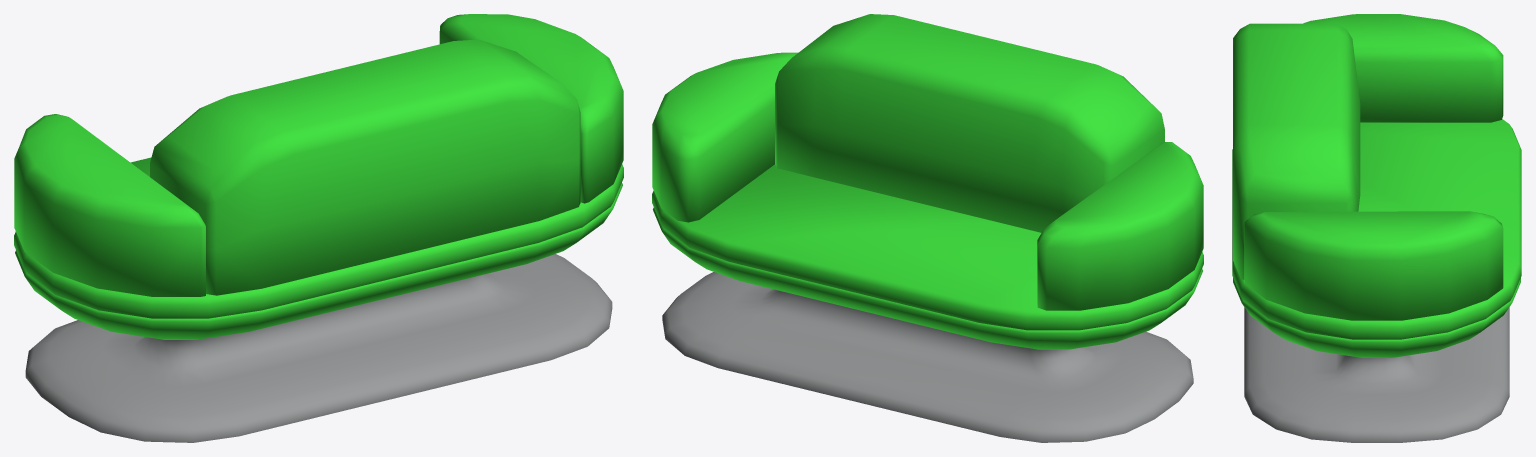
The model's file is Couch_Green.fbx.
3 views of the same model, side by side, from view 1: azimuth 30°, elevation 25°; view 2: azimuth 150°, elevation 25°; view 3: azimuth 270°, elevation 25° (orthographic). The views are drawn at different scales.
Parts seen in each view (by area): view 1: Couch; view 2: Couch; view 3: Couch.
Boxes of the visible parts, left/top/right/bottom form: Couch: left=14, top=14, right=623, bottom=442; Couch: left=652, top=14, right=1203, bottom=442; Couch: left=1232, top=14, right=1521, bottom=442.
Size of the model in its own units: 160 by 79.34 by 82.11.
